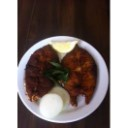seerfish: (60, 45, 97, 106), (29, 45, 58, 99)
